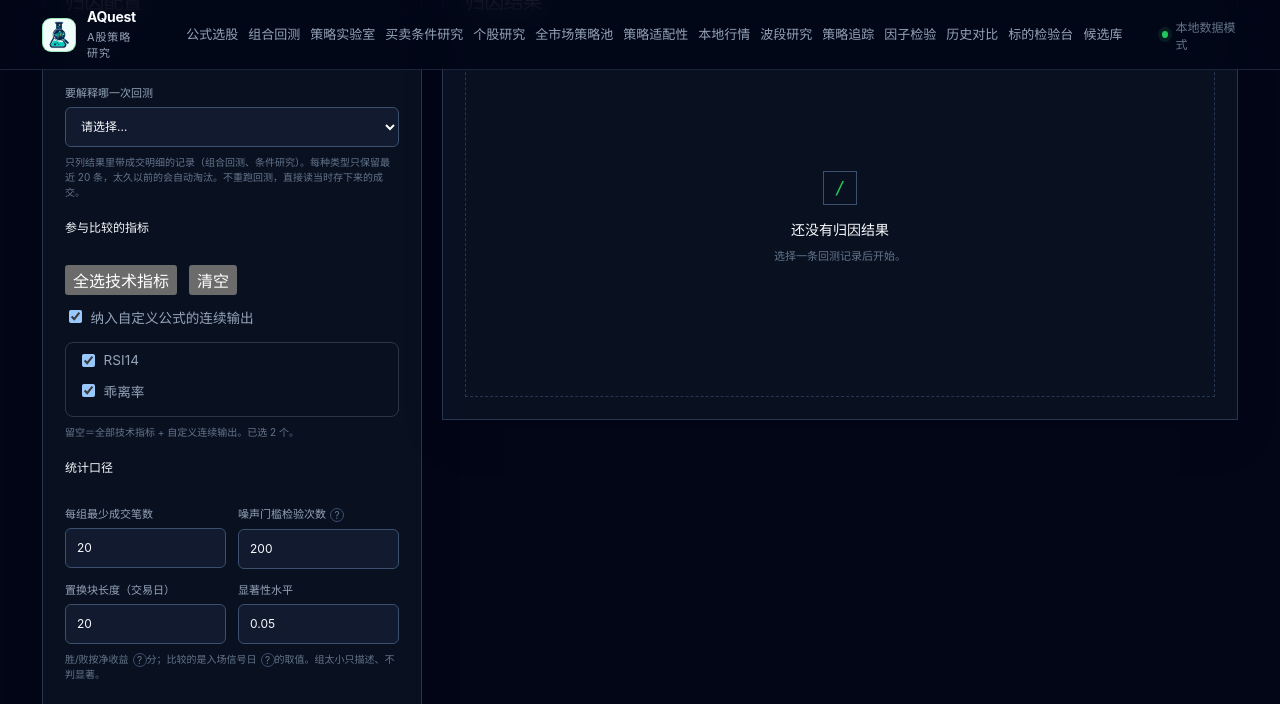
Test: FactorAttributionPage › lets the operator drop, re-add and bulk-pick the factors under test
(page scrolled)
Expected: the checkbox with test id "attribution-value-technical.bias20" is checked, [82,384,95,397]
Click the checkbox with test id "attribution-value-technical.rsi14".
click(88, 360)  # box [82,354,95,366]
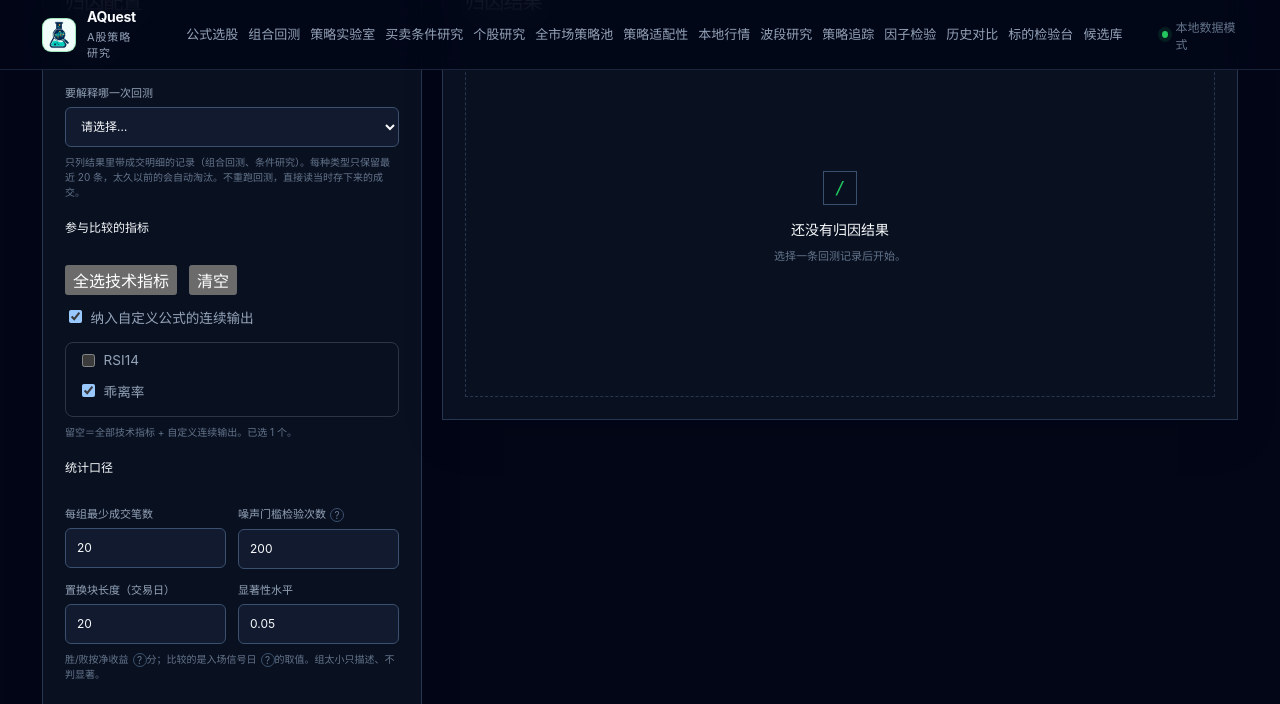
Expected: the checkbox with test id "attribution-value-technical.rsi14" is not checked, [82,354,95,366]
Click the button with test id "attribution-clear-values".
click(213, 280)  # box [189,264,237,294]
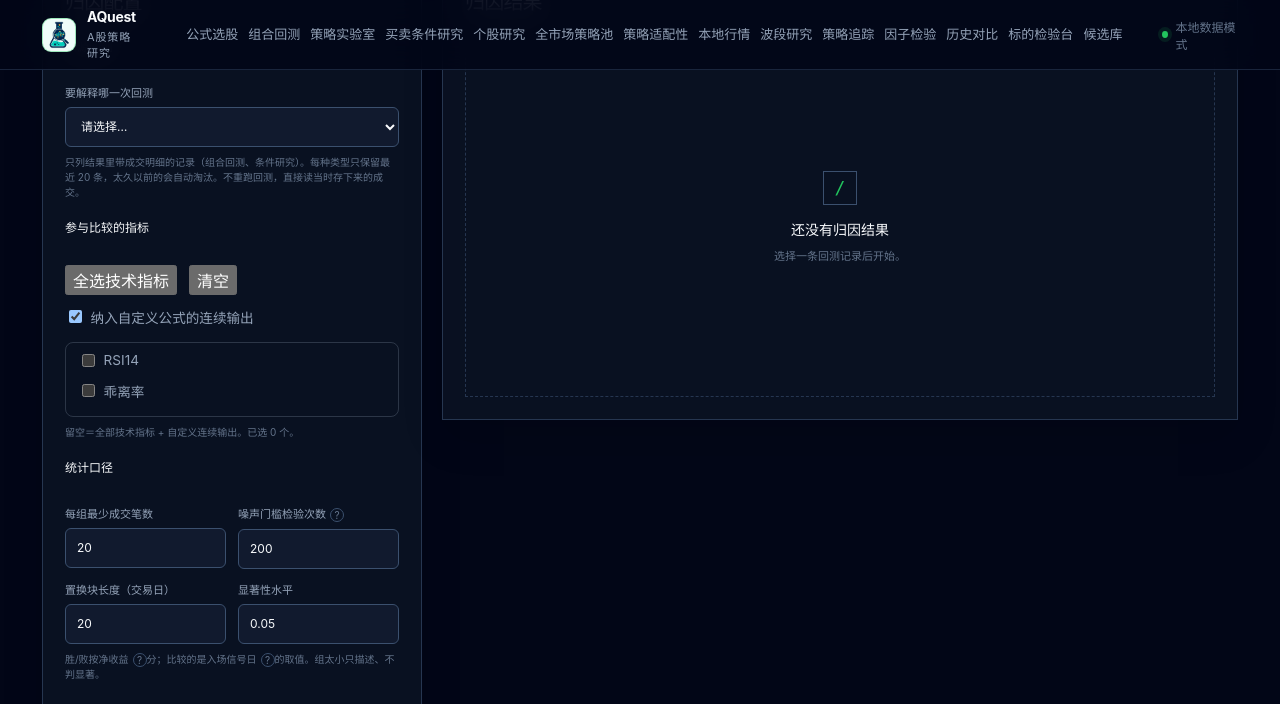
Expected: the checkbox with test id "attribution-value-technical.bias20" is not checked, [82,384,95,397]
Click the checkbox with test id "attribution-value-technical.rsi14".
click(88, 360)  # box [82,354,95,366]
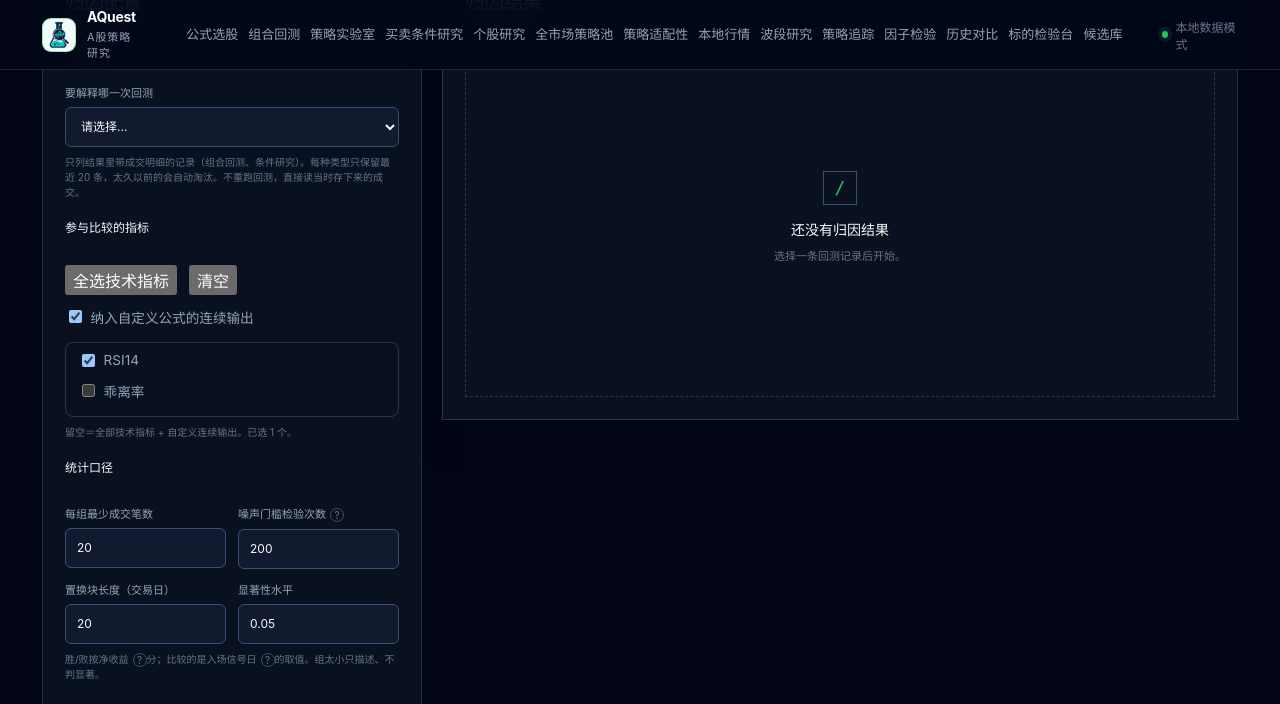
Expected: the checkbox with test id "attribution-value-technical.rsi14" is checked, [82,354,95,366]
Click the button with test id "attribution-select-technical".
click(121, 280)  # box [65,264,177,294]
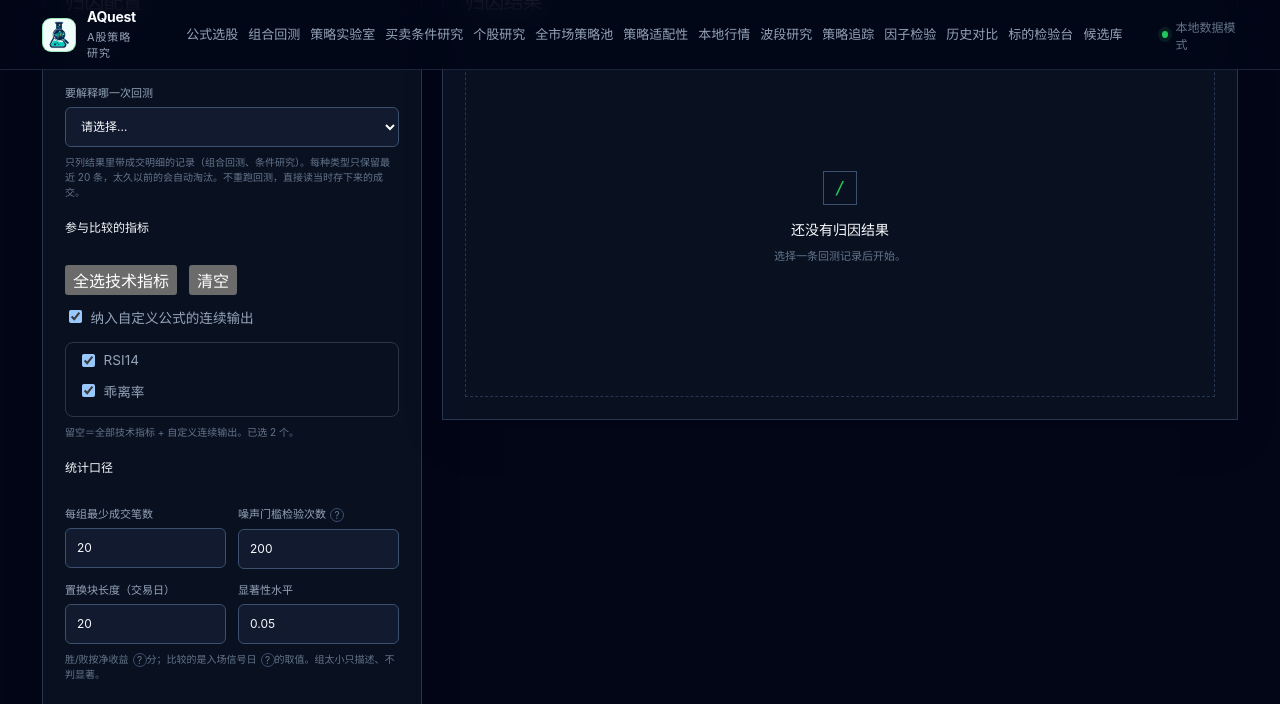
Expected: the checkbox with test id "attribution-value-technical.bias20" is checked, [82,384,95,397]
